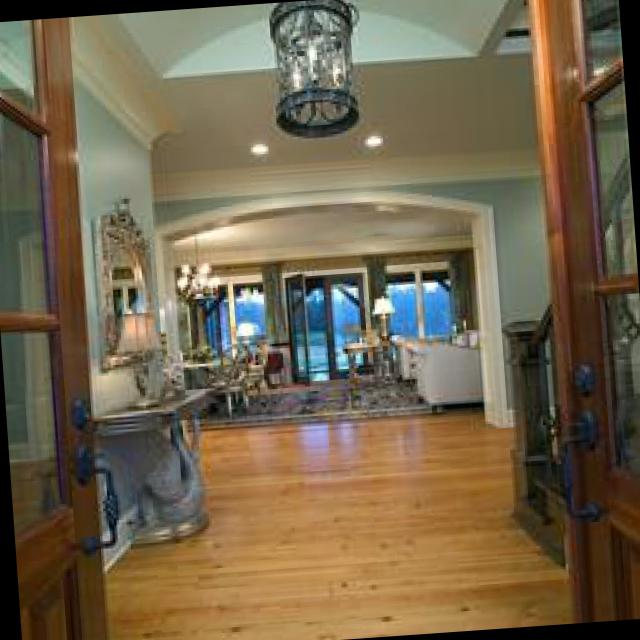2001: (200, 279, 262, 356), (387, 266, 449, 333)
ceiling beam: (115, 0, 522, 78)
door bars: (523, 0, 640, 621), (322, 272, 364, 375), (282, 269, 309, 381)
grass: (305, 325, 326, 368)
lamp crop: (266, 0, 355, 138), (245, 139, 266, 155), (360, 131, 380, 146)
tree: (305, 283, 324, 320)
wall clock: (149, 50, 553, 431), (173, 244, 471, 390), (168, 209, 470, 265)
